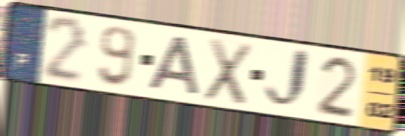2: (42, 13, 93, 86), (315, 53, 360, 121)
9: (97, 24, 138, 89)
A: (146, 34, 203, 99)
J: (262, 45, 312, 113)
X: (202, 35, 255, 108)
